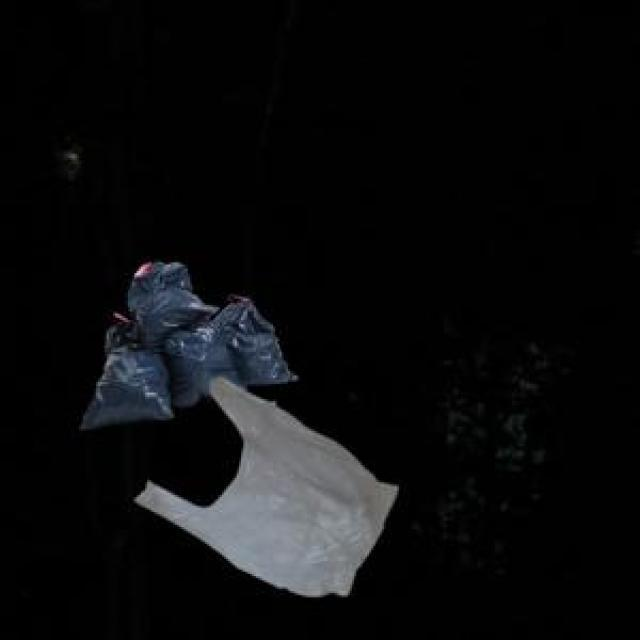miscellaneous trash: (77, 260, 294, 425)
